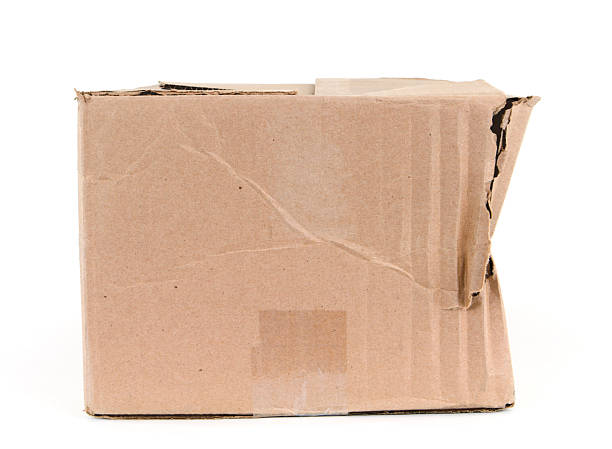damaged package: (463, 116, 506, 311)
